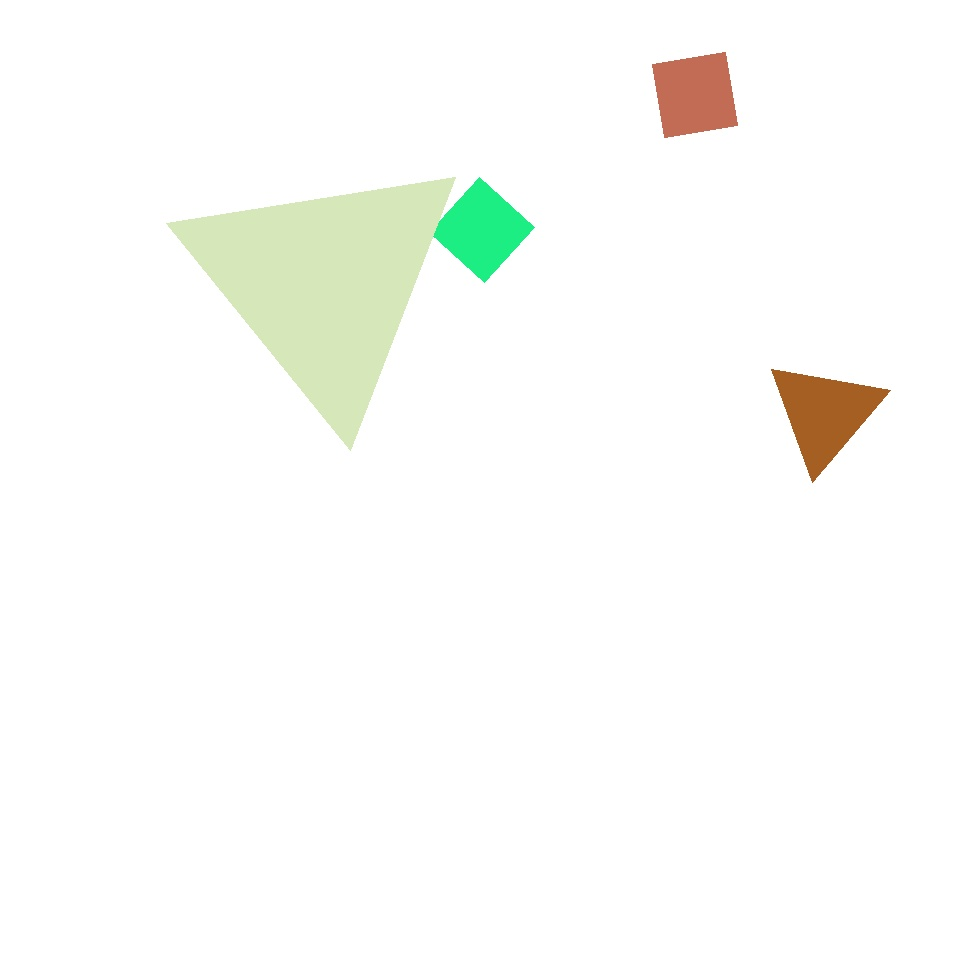circle: (180, 148, 468, 420), (766, 358, 884, 470)
square: (430, 178, 534, 283), (652, 52, 738, 138)
triangle: (52, 52, 398, 400), (654, 332, 954, 631)
